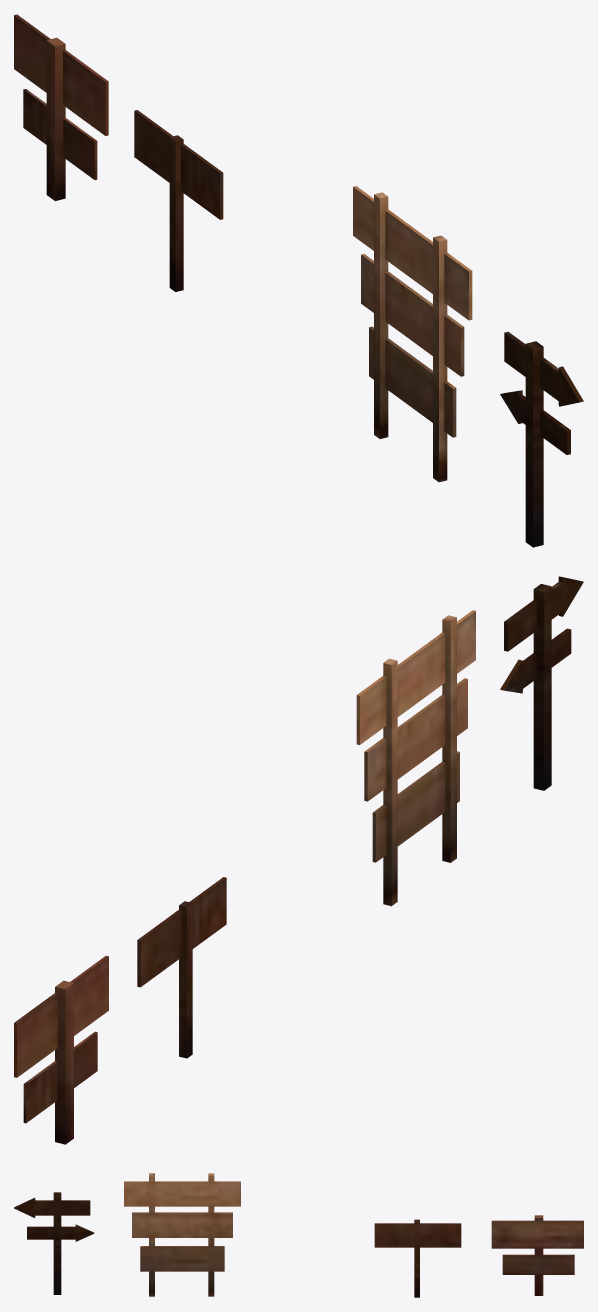
File: singn wood.fbx
The picture shows the model from 3 angles, top to bottom: view 1: azimuth 30°, elevation 25°; view 2: azimuth 150°, elevation 25°; view 3: azimuth 270°, elevation 25°; orthographic projection. The views are drawn at different scales.
Parts seen in each view (by area): view 1: singwood2, singwood, singwood3, singwood1; view 2: singwood2, singwood, singwood3, singwood1; view 3: singwood2, singwood, singwood3, singwood1.
Boxes of the visible parts, left/top/right/bottom form: singwood2: left=353, top=186, right=472, bottom=482; singwood: left=14, top=14, right=108, bottom=200; singwood3: left=500, top=331, right=583, bottom=547; singwood1: left=134, top=110, right=223, bottom=291; singwood2: left=356, top=610, right=475, bottom=906; singwood: left=14, top=955, right=108, bottom=1144; singwood3: left=500, top=576, right=583, bottom=790; singwood1: left=137, top=877, right=226, bottom=1058; singwood2: left=124, top=1173, right=240, bottom=1296; singwood: left=491, top=1215, right=583, bottom=1295; singwood3: left=14, top=1192, right=94, bottom=1294; singwood1: left=374, top=1219, right=461, bottom=1297.
Bounding box in the file's own units: 60.8 × 1136 × 4793.
